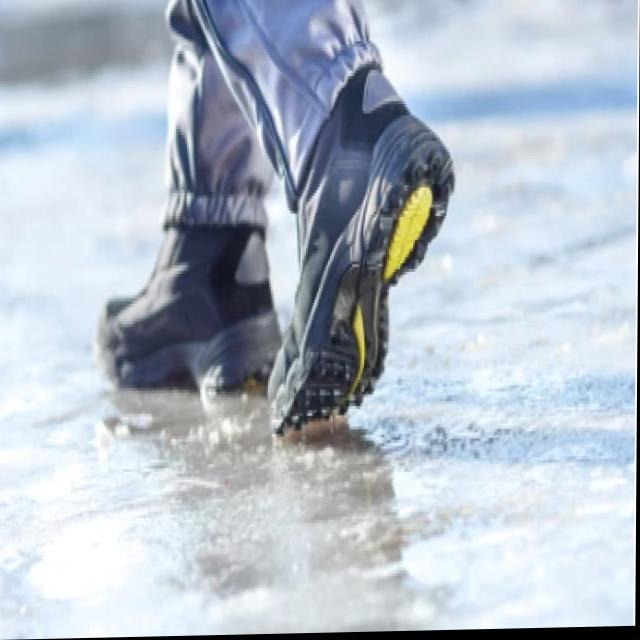shoes: (92, 66, 456, 449)
